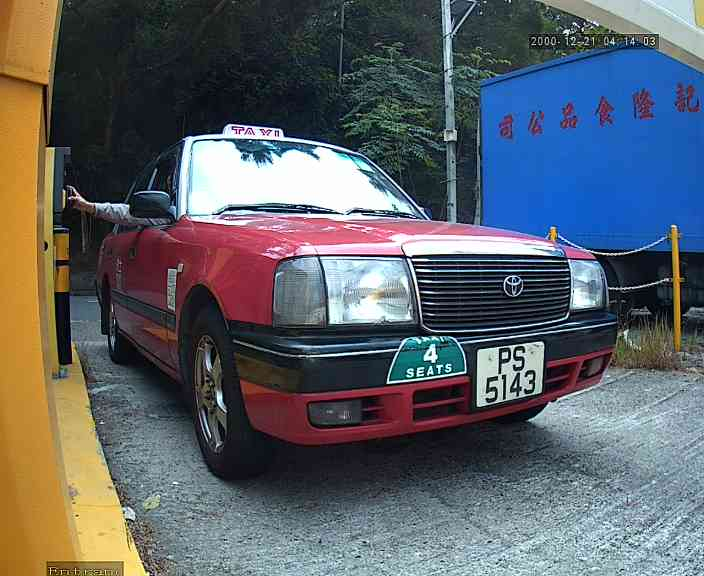taxi: (79, 102, 624, 477)
taxi_mark: (376, 324, 475, 399)
